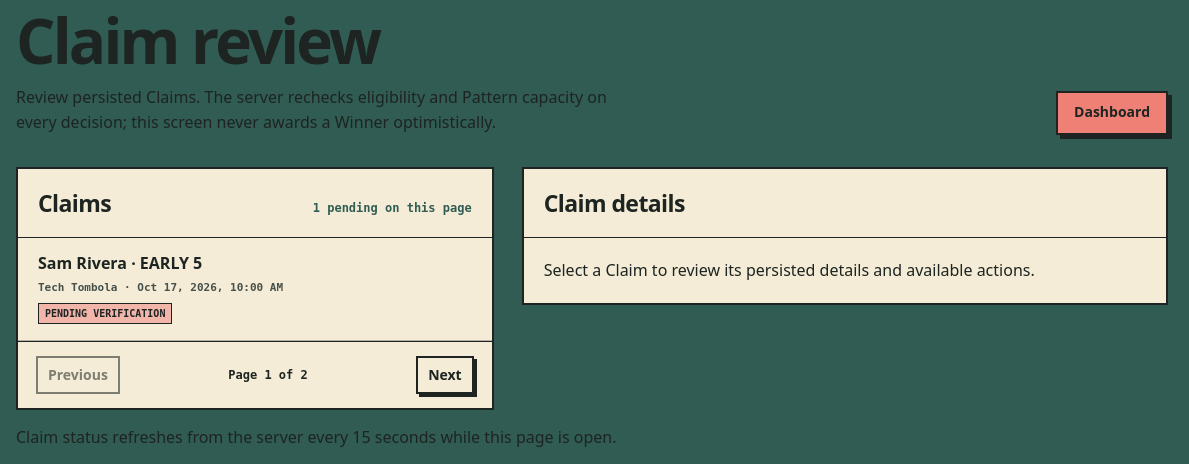
Test: Admin Claim review › navigates pages using the server pagination response
Check: the text "Page 1 of 2" is shown, box [228, 368, 308, 382]
Step 1. Click the button "Next" → point(445, 375), box [416, 356, 474, 394]
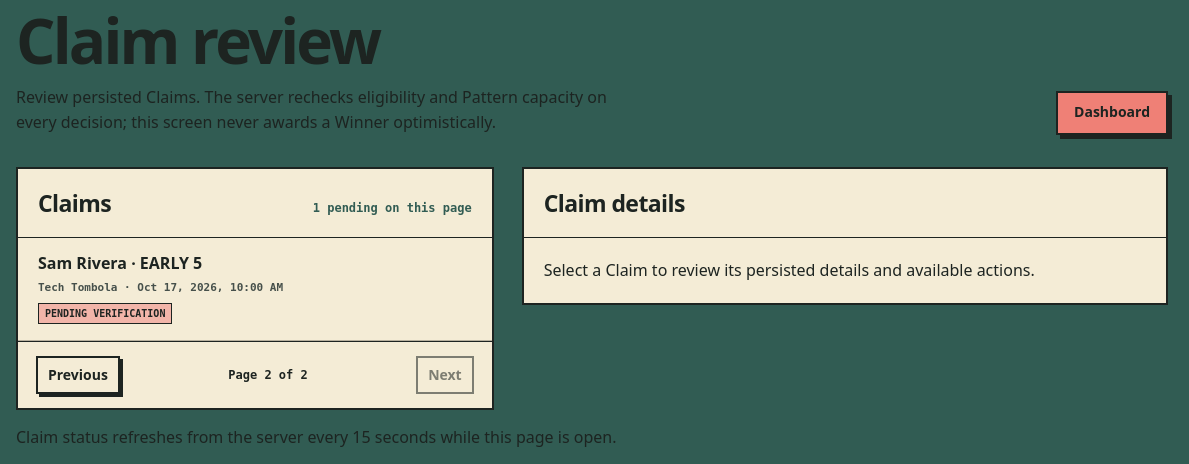
Check: the text "Sam Rivera · EARLY 5" is shown, box [38, 252, 202, 274]
Check: the text "Page 2 of 2" is shown, box [228, 368, 308, 382]
